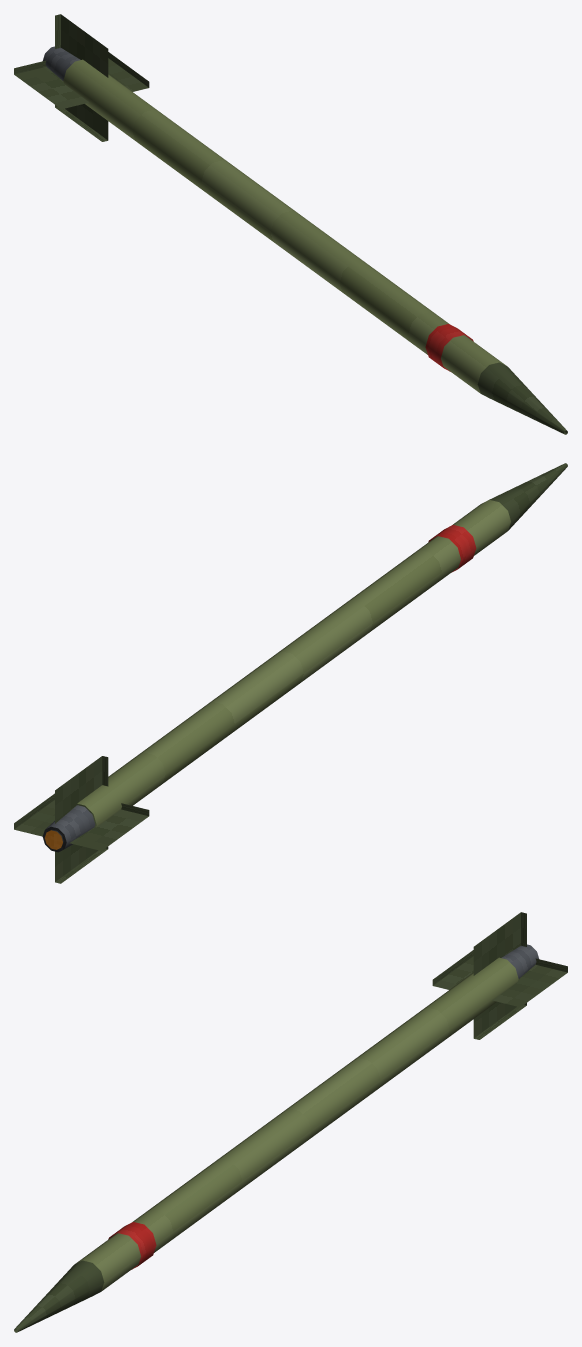
The model's file is rocket_grad.glb.
3 renders of one model, top to bottom at view 1: azimuth 30°, elevation 25°; view 2: azimuth 150°, elevation 25°; view 3: azimuth 330°, elevation 25°, orthographic.
Visible parts, largest first — view 1: body; view 2: body; view 3: body.
Boxes of the visible parts, left/top/right/bottom form: body: left=14, top=14, right=567, bottom=434; body: left=14, top=463, right=567, bottom=883; body: left=14, top=912, right=567, bottom=1332.
Bounding box in the file's own units: 0.32 × 0.32 × 3.24.
Materials: 1 (1 with a texture image).
